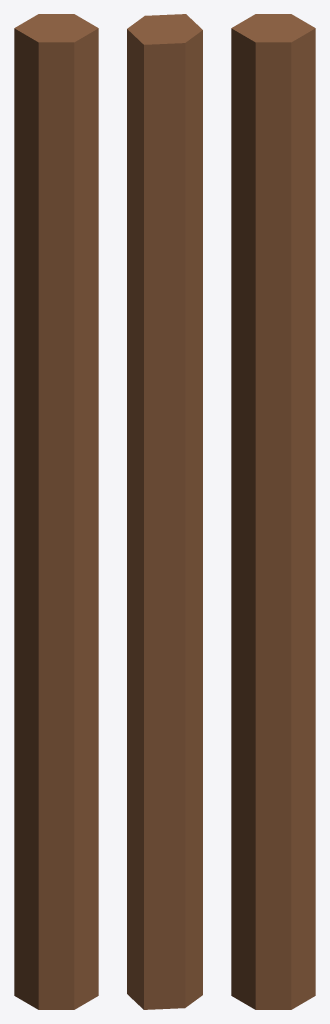
Rendered from tree-winter-trunk-019.glb.
The picture shows the model from 3 angles, left to right: view 1: azimuth 90°, elevation 25°; view 2: azimuth 150°, elevation 25°; view 3: azimuth 270°, elevation 25°; orthographic projection.
Parts seen in each view (by area): view 1: Plane.068_163; view 2: Plane.068_163; view 3: Plane.068_163.
Part boxes in pixels (x1,y1,x2,y2): Plane.068_163: [14, 14, 98, 1009]; Plane.068_163: [127, 14, 202, 1009]; Plane.068_163: [231, 14, 315, 1009].
Bounding box in the file's own units: 0.1289 × 2.04 × 0.1619.
